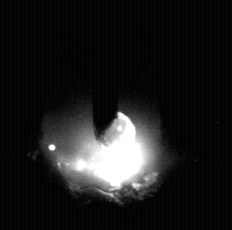arame: (94, 0, 119, 143)
poca: (44, 0, 163, 230)
